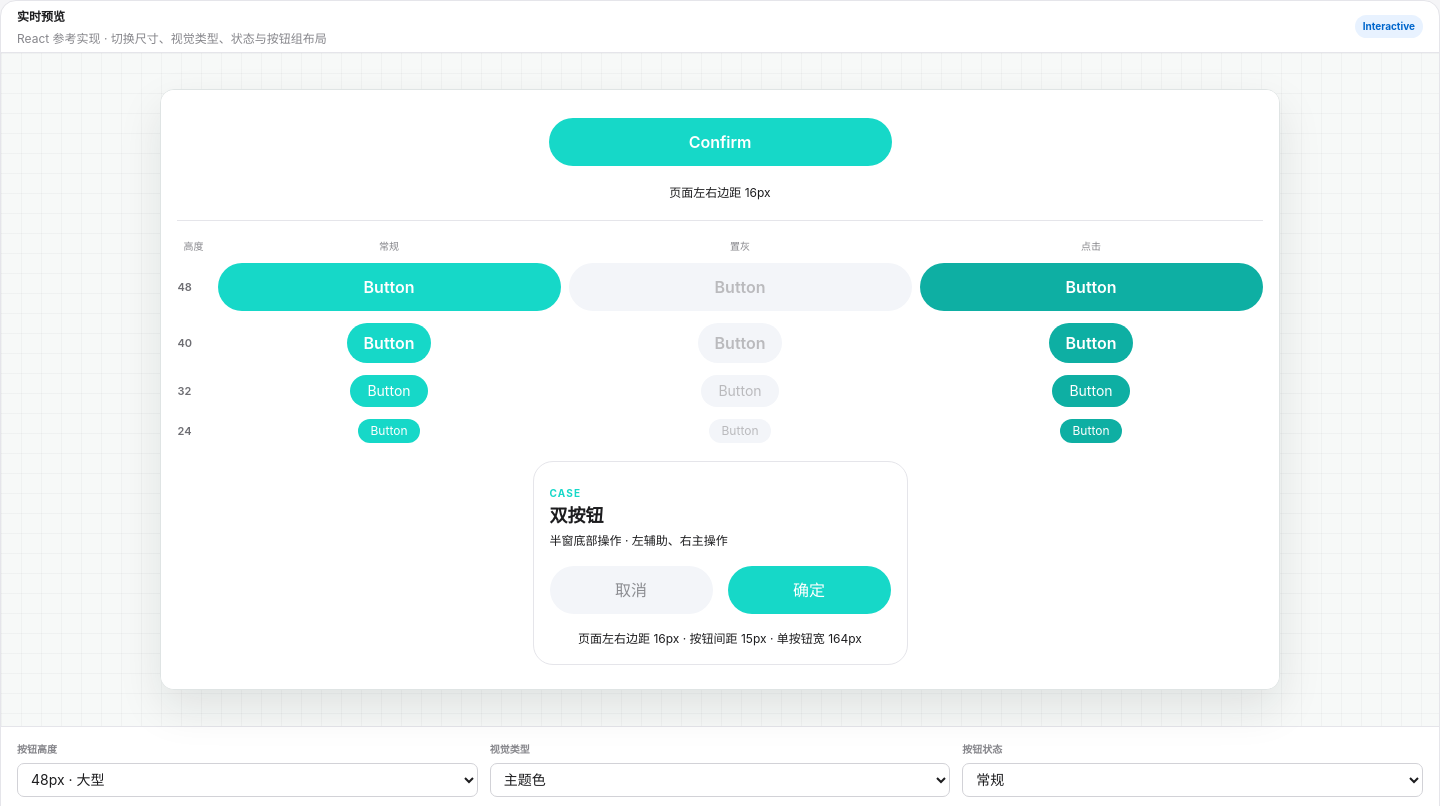
it: ComponentPreview › renders button sizes, states and responsive groups
Expected: the element named "按钮全部尺寸与状态" is shown, [177,220,1263,443]
Expected: the button with aria-label "24px 置灰" is disabled, [708,419,772,443]
Select "24px · Mini" in the dropdown labelled "按钮高度". click: (247,780)
box: [17,762,478,796]
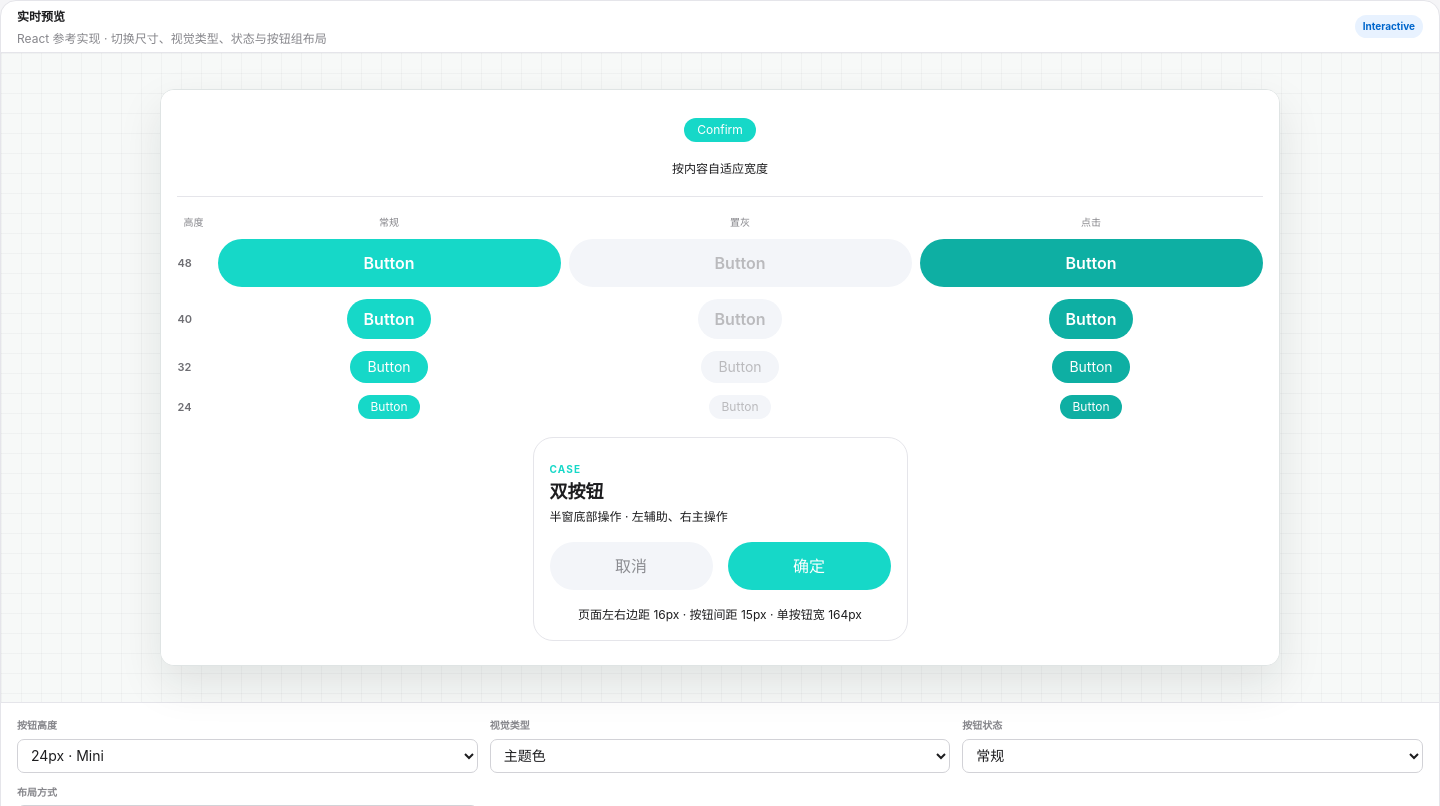
Select "主色描边" in the dropdown labelled "视觉类型". click: (720,756)
box: [490,738,950,772]
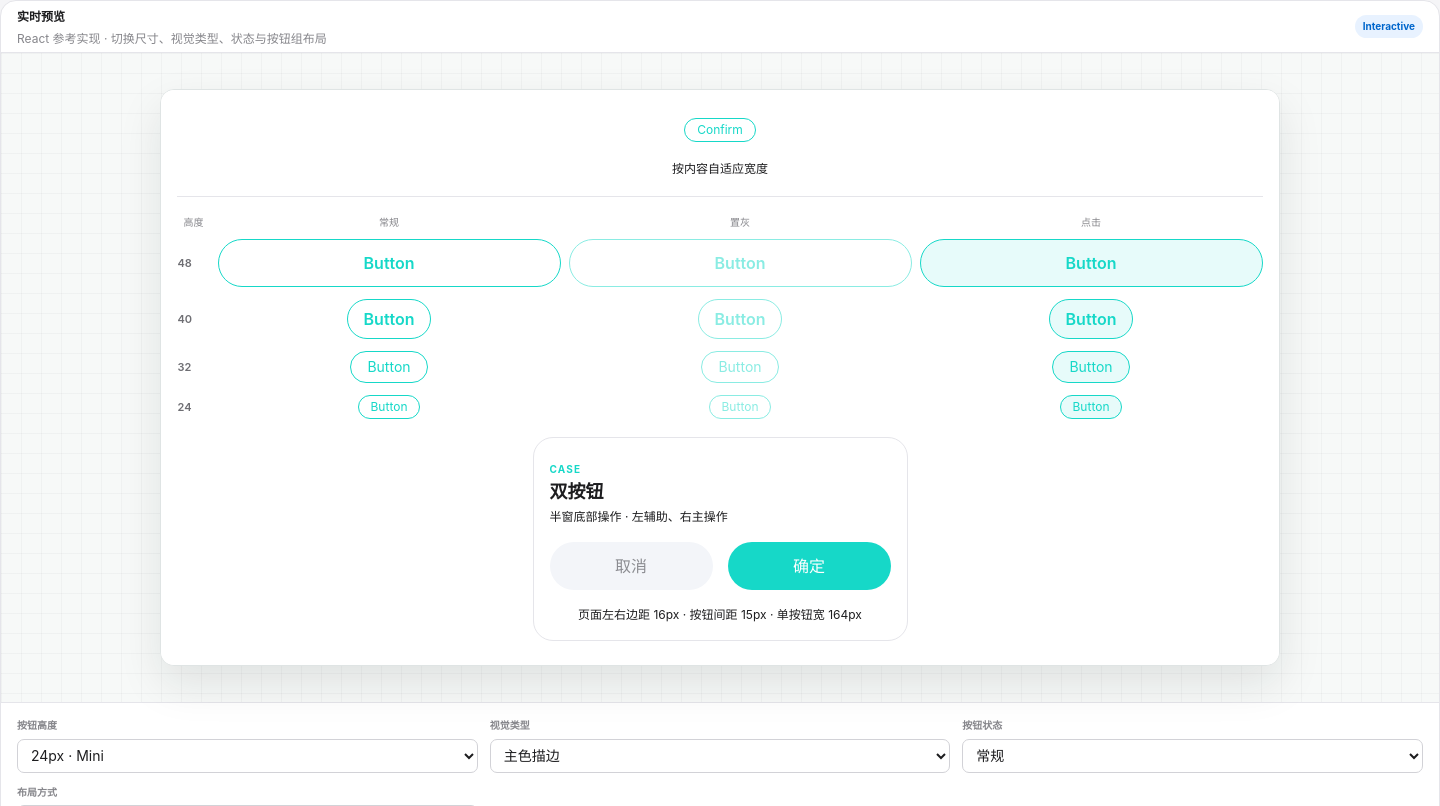
Select "置灰" in the dropdown labelled "按钮状态". click: (1193,756)
box: [962,738,1423,772]
(page scrolled)
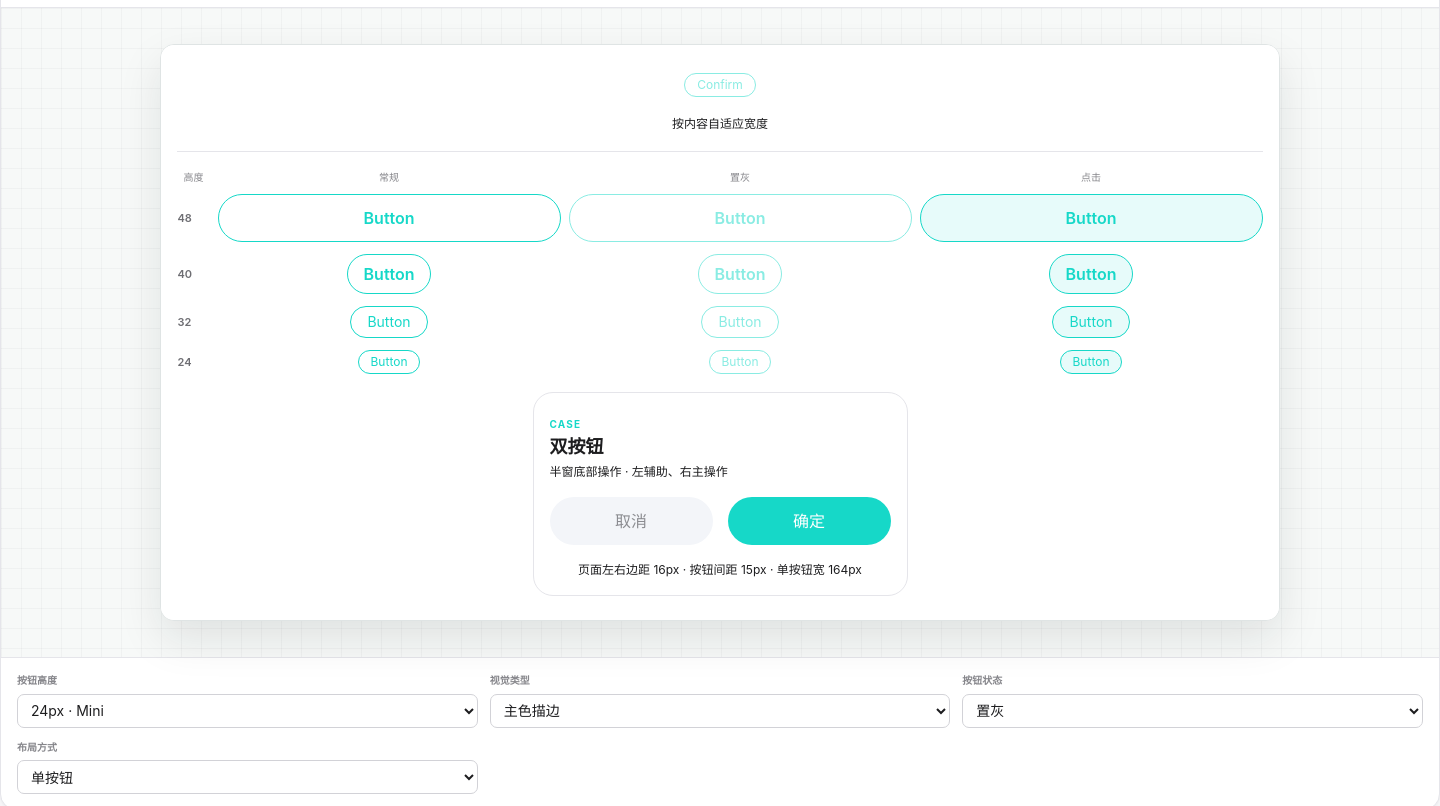
Select "双按钮 · 间距 16px" in the dropdown labelled "布局方式". click: (247,777)
box: [17,760,478,794]
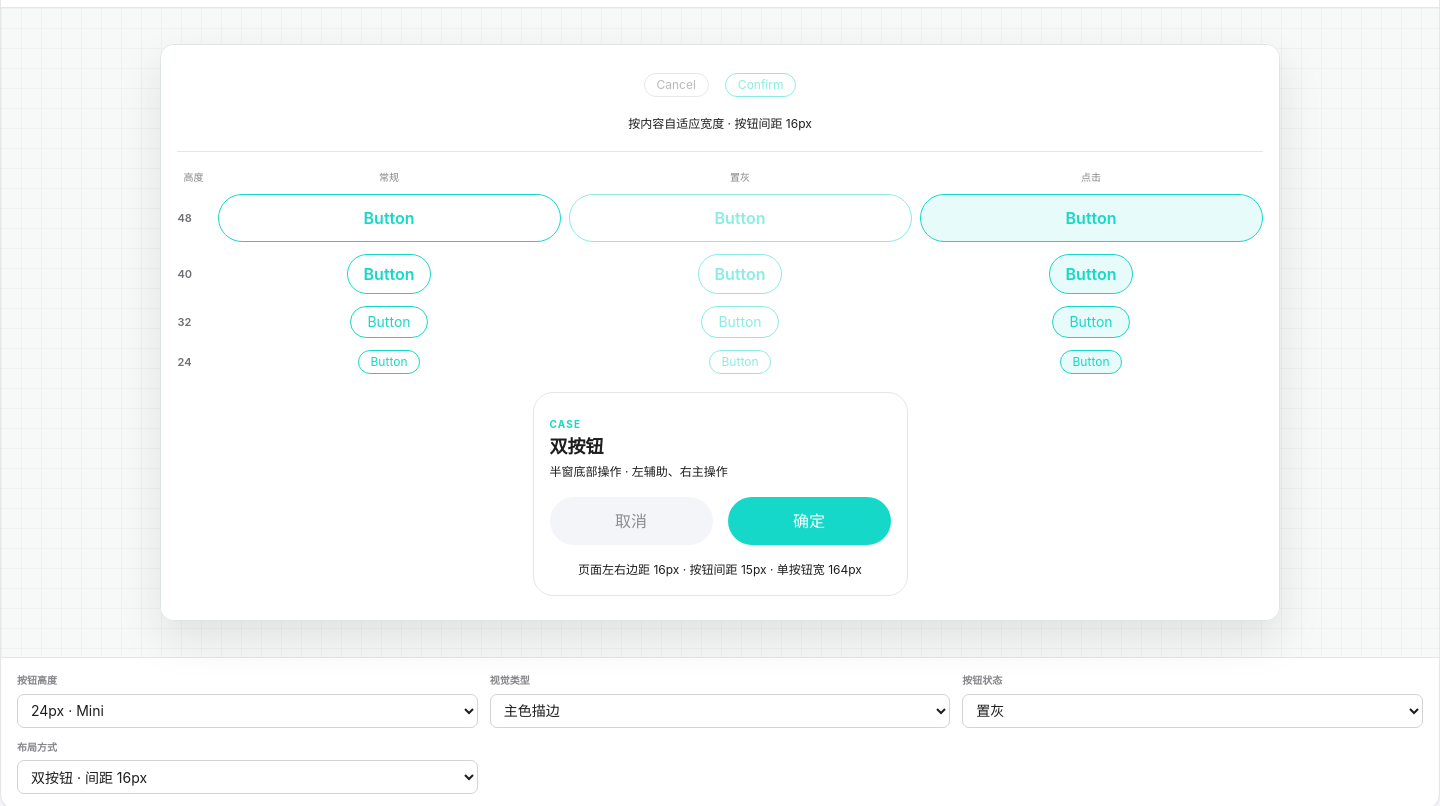
Result: the button "Confirm" is disabled at [725,73,796,97]
Result: the button "Cancel" is disabled at [644,73,709,97]
